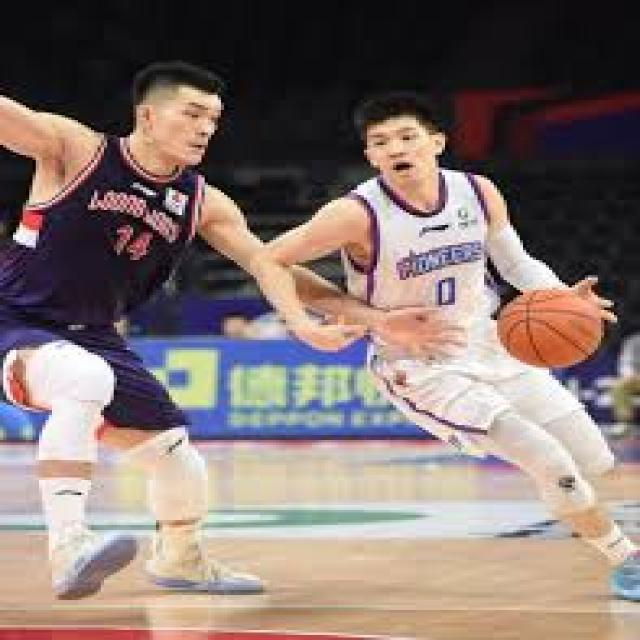rim: (497, 288, 608, 368)
